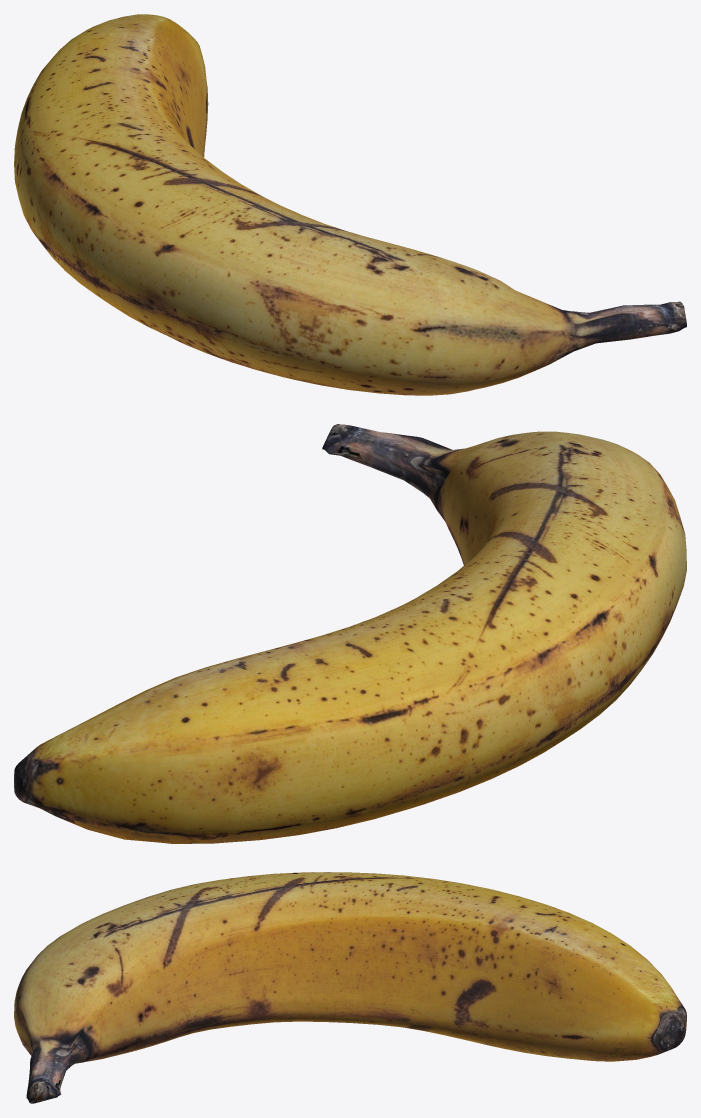
Rendered from banana.glb.
3 renders of one model, top to bottom at view 1: azimuth 30°, elevation 25°; view 2: azimuth 150°, elevation 25°; view 3: azimuth 270°, elevation 25°, orthographic. The views are drawn at different scales.
Visible parts, largest first — view 1: Banana; view 2: Banana; view 3: Banana.
Part boxes in pixels (x1,y1,x2,y2): Banana: [14, 14, 686, 395]; Banana: [14, 424, 686, 843]; Banana: [14, 872, 686, 1103].
Size of the model in its own units: 11.74 by 3.91 by 20.02.
Materials: 1 (1 with a texture image).
